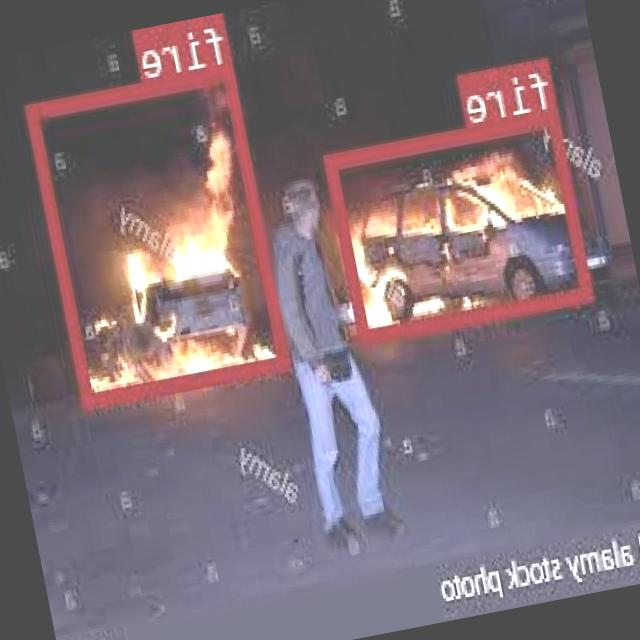fire: (28, 62, 292, 408), (326, 107, 596, 341)
